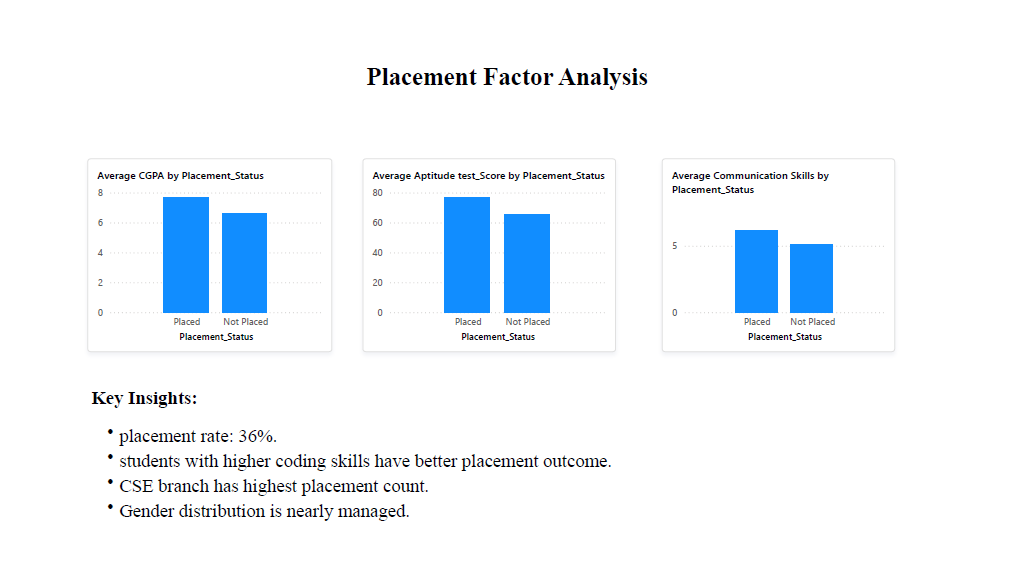

This screenshot's page, from the dashboard's own definition file:
{"tool":"powerbi","page":{"name":"Page 2","canvas":[1280,720],"ordinal":1},"visuals":[{"type":"textbox","box":[425.2,57.4,429.5,54.1],"z":0},{"type":"clusteredColumnChart","title":"Average Aptitude test_Score by Placement_Status","fields":{"Category":["train.Placement_Status"],"Y":["Avg(train.Aptitude_Test_Score)"]},"box":[454.1,185.2,326.2,249.2],"z":1000},{"type":"clusteredColumnChart","title":"Average CGPA by Placement_Status","fields":{"Category":["train.Placement_Status"],"Y":["Avg(train.CGPA)"]},"box":[100,185.2,314.8,249.2],"z":2000},{"type":"clusteredColumnChart","title":"Average Communication Skills by Placement_Status","fields":{"Category":["train.Placement_Status"],"Y":["Avg(train.Communication_Skills)"]},"box":[839.3,185.2,300,249.2],"z":3000},{"type":"textbox","box":[100,475.4,795.1,213.1],"z":4000}]}

Visuals, with their boxes in screenshot pixels (x1, y1, x2, y2), scaled from the page's 1280x720 canvas onto the 1014x588 screenshot:
textbox: (left=337, top=47, right=677, bottom=91)
"Average Aptitude test_Score by Placement_Status" clusteredColumnChart: (left=360, top=151, right=618, bottom=355)
"Average CGPA by Placement_Status" clusteredColumnChart: (left=79, top=151, right=329, bottom=355)
"Average Communication Skills by Placement_Status" clusteredColumnChart: (left=665, top=151, right=903, bottom=355)
textbox: (left=79, top=388, right=709, bottom=562)
